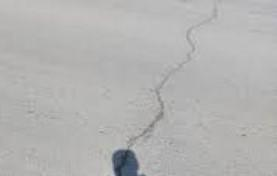crack: (109, 0, 227, 176)
